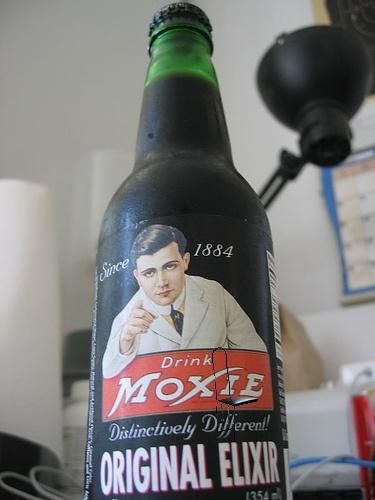tampered: (213, 348, 258, 440)
